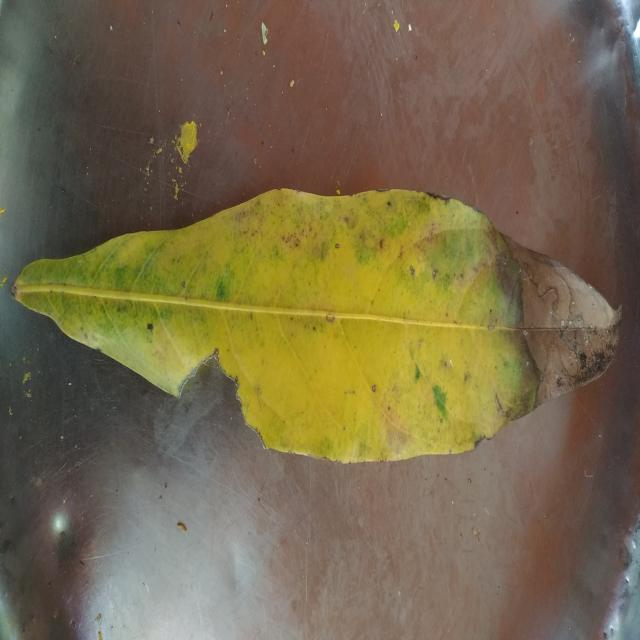seethaashoka: (12, 189, 620, 462)
